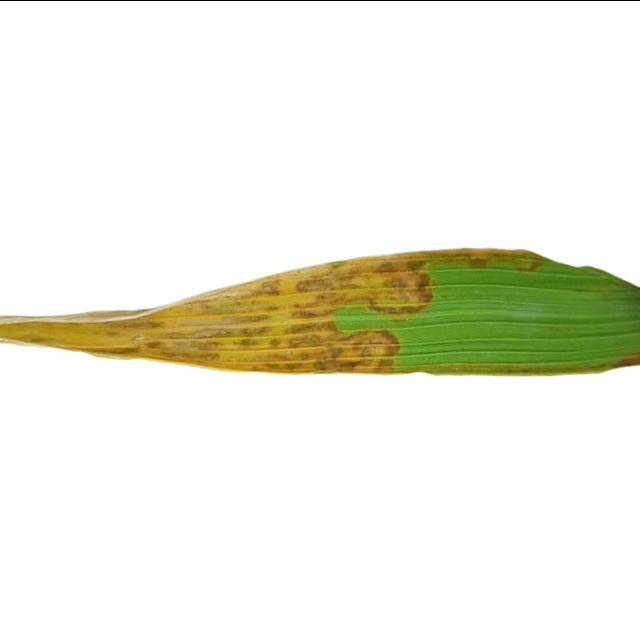Leaf scald: (0, 133, 640, 466)
